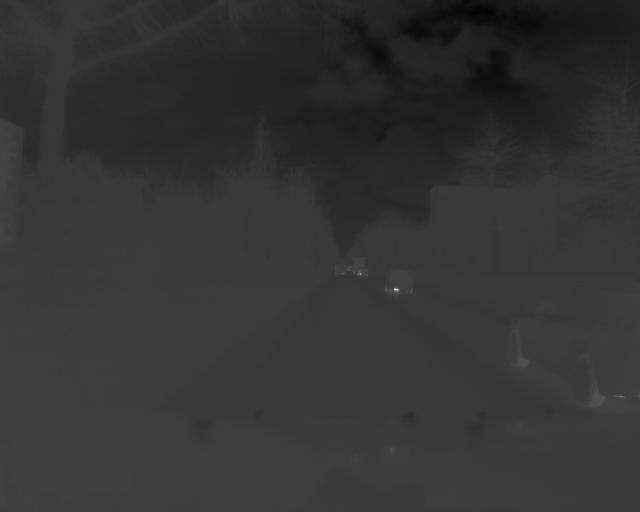car: (505, 286, 640, 413), (383, 267, 418, 297)
